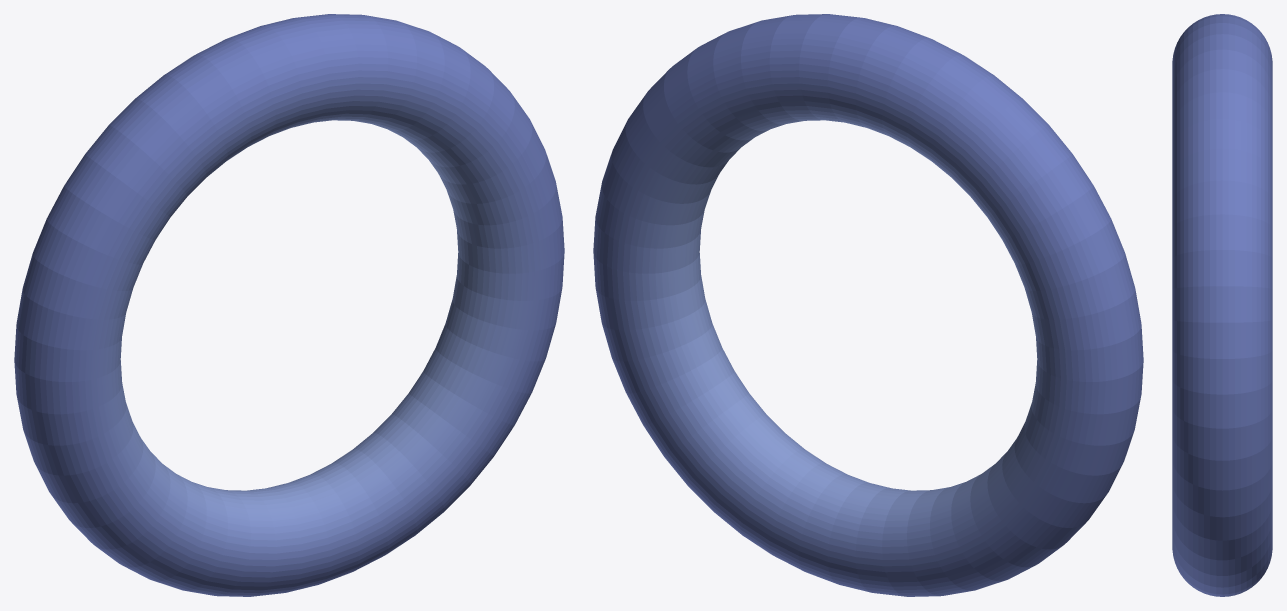
The picture shows the model from 3 angles, left to right: view 1: azimuth 30°, elevation 25°; view 2: azimuth 150°, elevation 25°; view 3: azimuth 270°, elevation 25°; orthographic projection. The views are drawn at different scales.
Visible parts, largest first — view 1: world; view 2: world; view 3: world.
Part boxes in pixels (bbox=[...]): world: bbox=[14, 14, 564, 596]; world: bbox=[593, 14, 1143, 596]; world: bbox=[1172, 14, 1272, 596].
Bounding box in the file's own units: 20.93 × 20.89 × 3.59.
